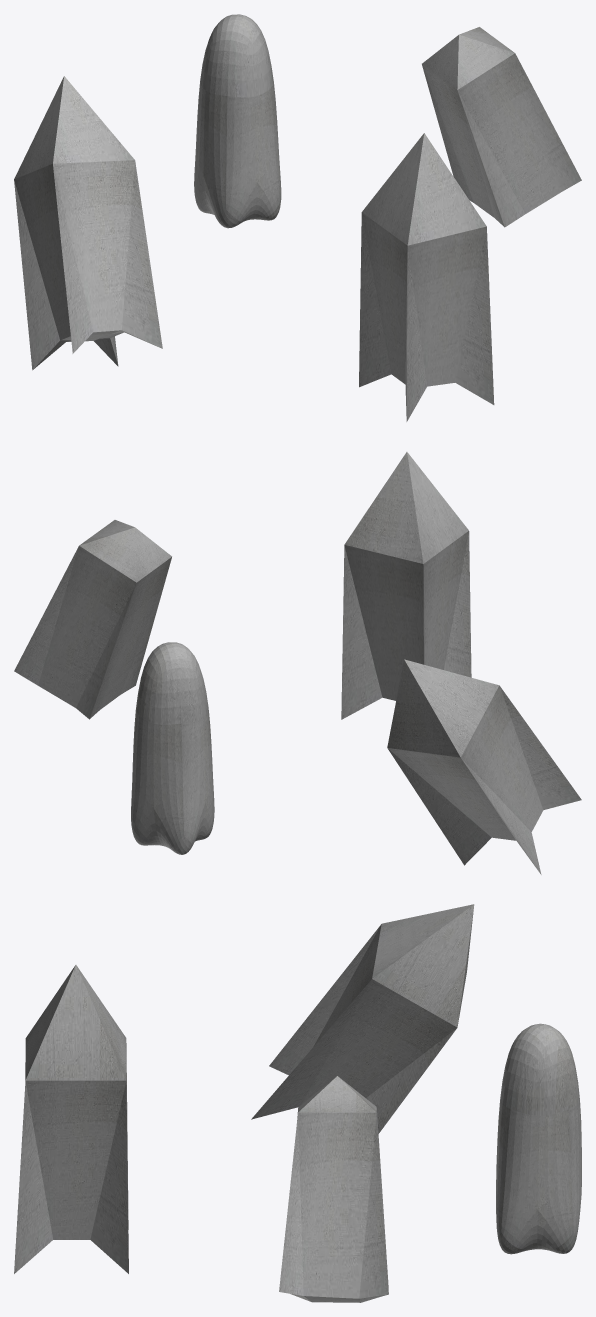
Rendered from rocketTest.dae.
3 renders of one model, top to bottom at view 1: azimuth 30°, elevation 25°; view 2: azimuth 150°, elevation 25°; view 3: azimuth 270°, elevation 25°, orthographic. The views are drawn at different scales.
Visible parts, largest first — view 1: rocket.2, rocket.3, rocket.4, 细分曲面.1; view 2: rocket.3, rocket.2, rocket.4, 细分曲面.1; view 3: rocket.3, rocket.2, rocket.4, 细分曲面.1.
Boxes of the visible parts, x1,y1,x2,y2 form: rocket.2: (14, 76, 162, 370); rocket.3: (359, 133, 494, 421); rocket.4: (422, 27, 581, 227); 细分曲面.1: (194, 14, 281, 228); rocket.3: (341, 452, 471, 719); rocket.2: (387, 659, 581, 874); rocket.4: (14, 520, 171, 719); 细分曲面.1: (131, 642, 214, 854); rocket.3: (14, 965, 128, 1273); rocket.2: (251, 904, 474, 1133); rocket.4: (279, 1076, 388, 1302); 细分曲面.1: (496, 1023, 581, 1254).
Size of what is drawn, in the model's own units: 187 by 97.39 by 163.
Materials: 1 (1 with a texture image).
